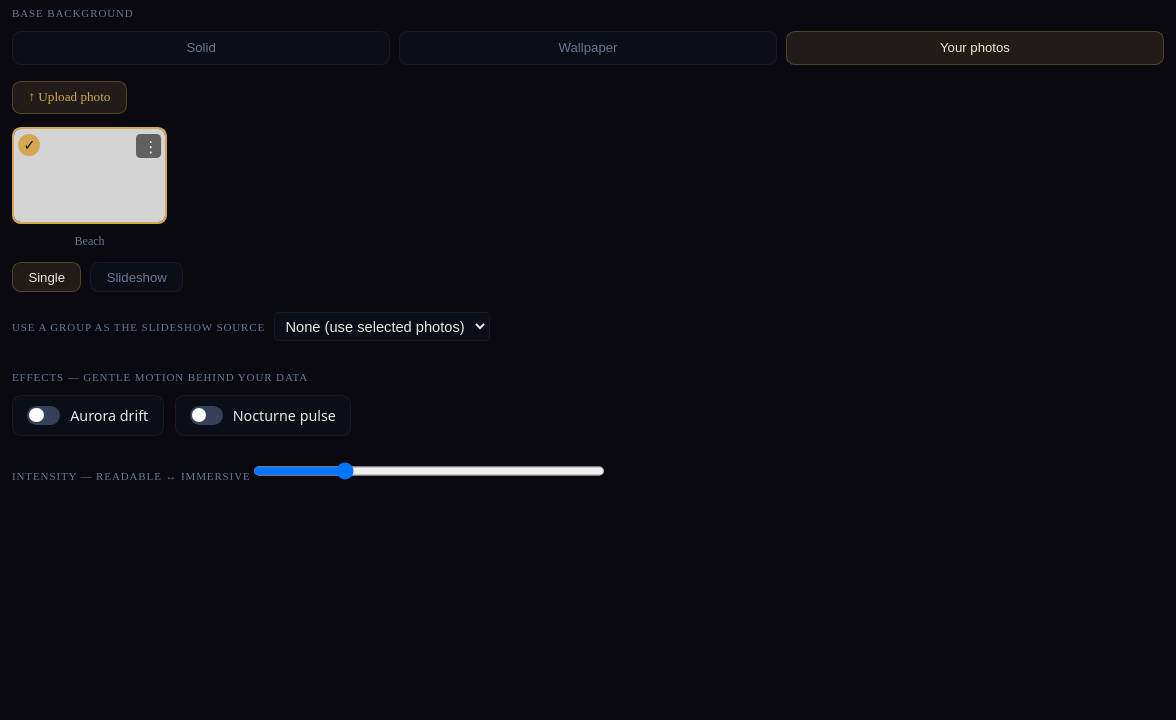
Test case: BackgroundTab framing editor › Adjust framing is offered for a selected photo and opens the editor with a zoom slider
Expected: the field labelled "Zoom" is not shown
Step 1. Click the button named "Actions for Beach" → (148, 146), box [136,134,161,158]
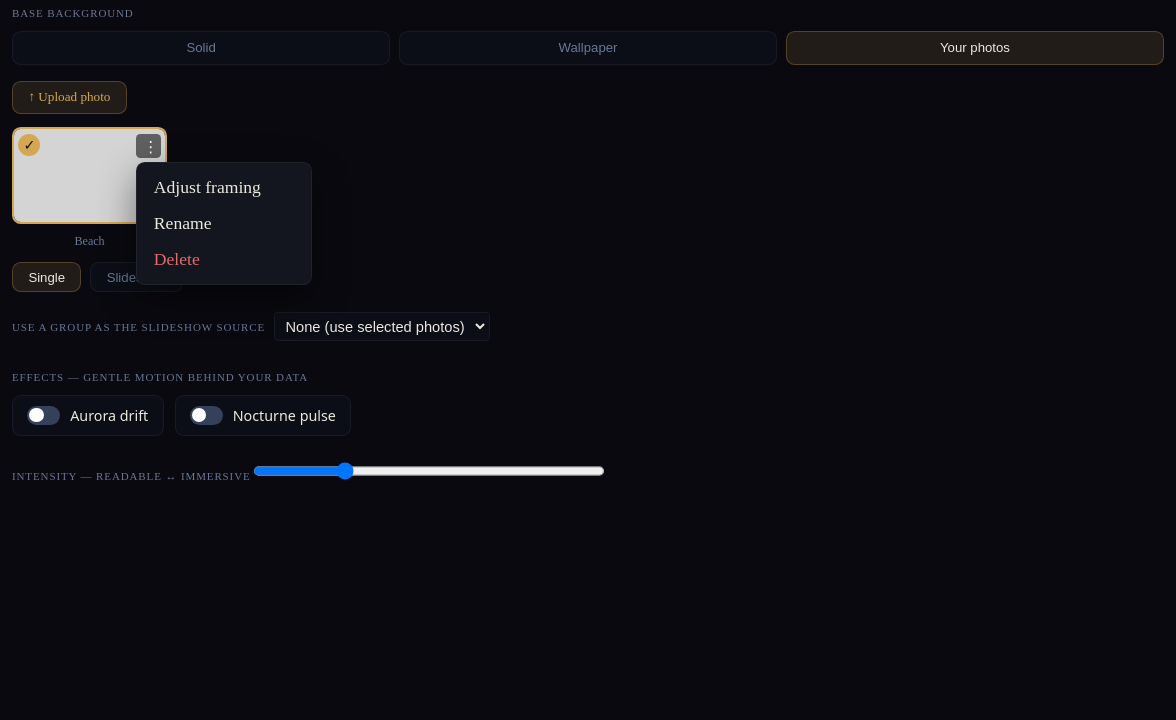
Step 2. Click the menu item "Adjust framing" → (224, 187), box [143,169,306,205]
(page scrolled)
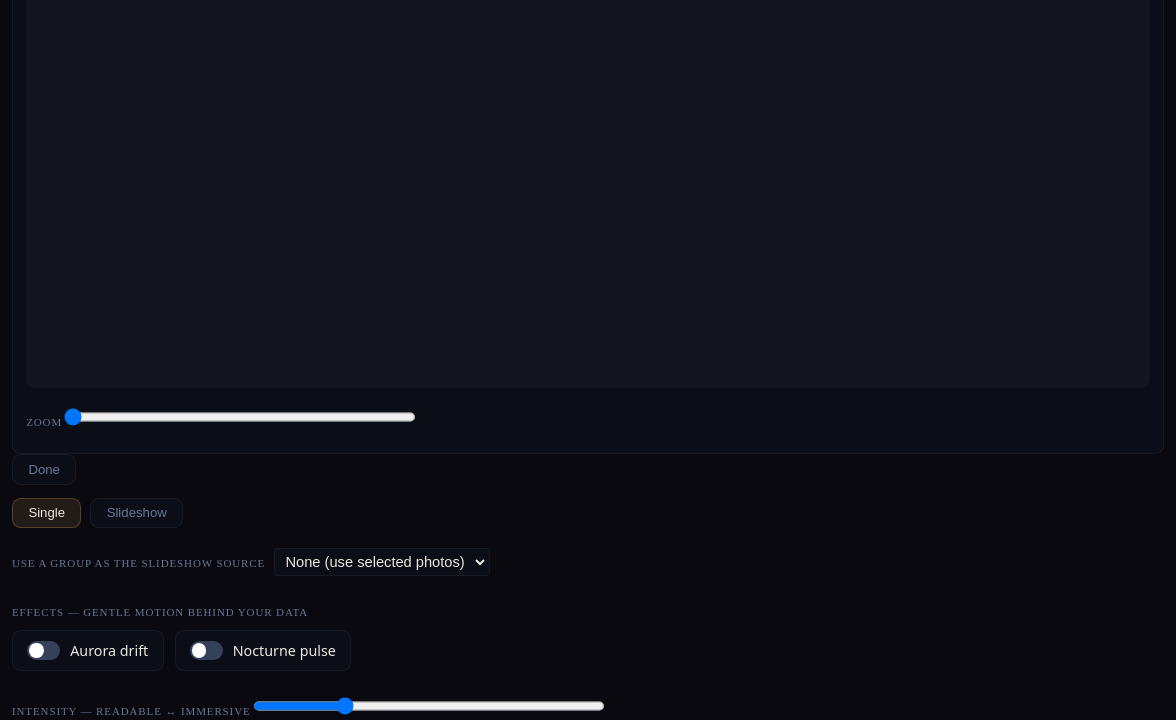
Result: the slider labelled "Zoom" is shown at [64,408,416,426]
